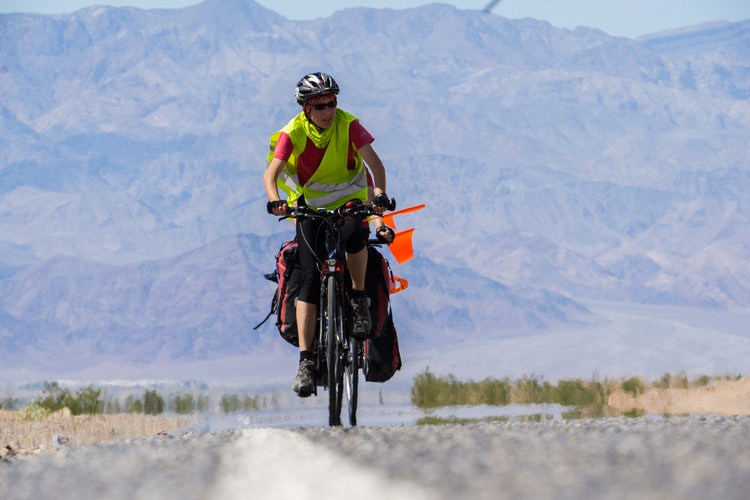helmet: (291, 67, 342, 107)
